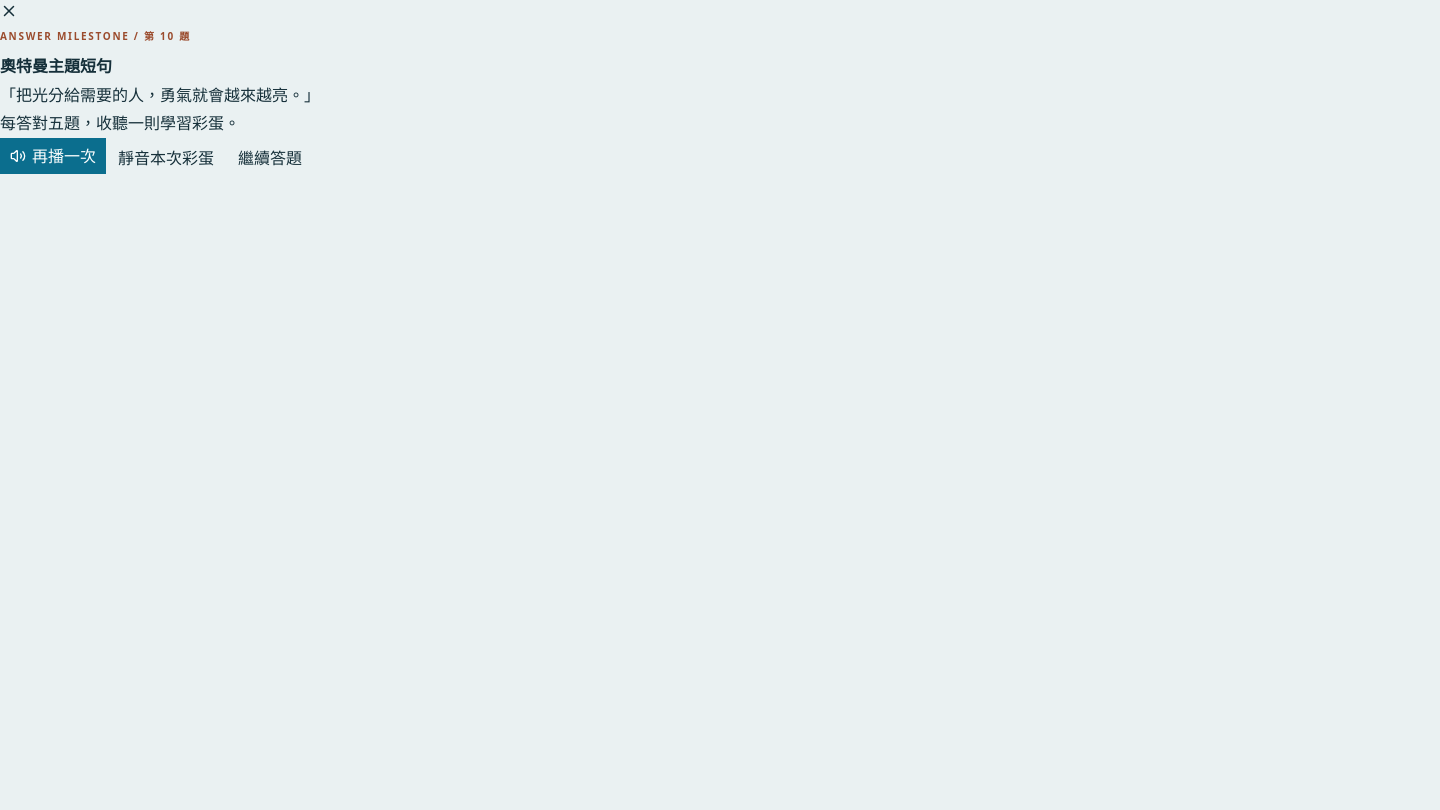
Test: AnswerBroadcast › supports muting the current broadcast and stopping speech on unmount
Click the button "靜音本次彩蛋": (166, 159) [106,141,226,177]
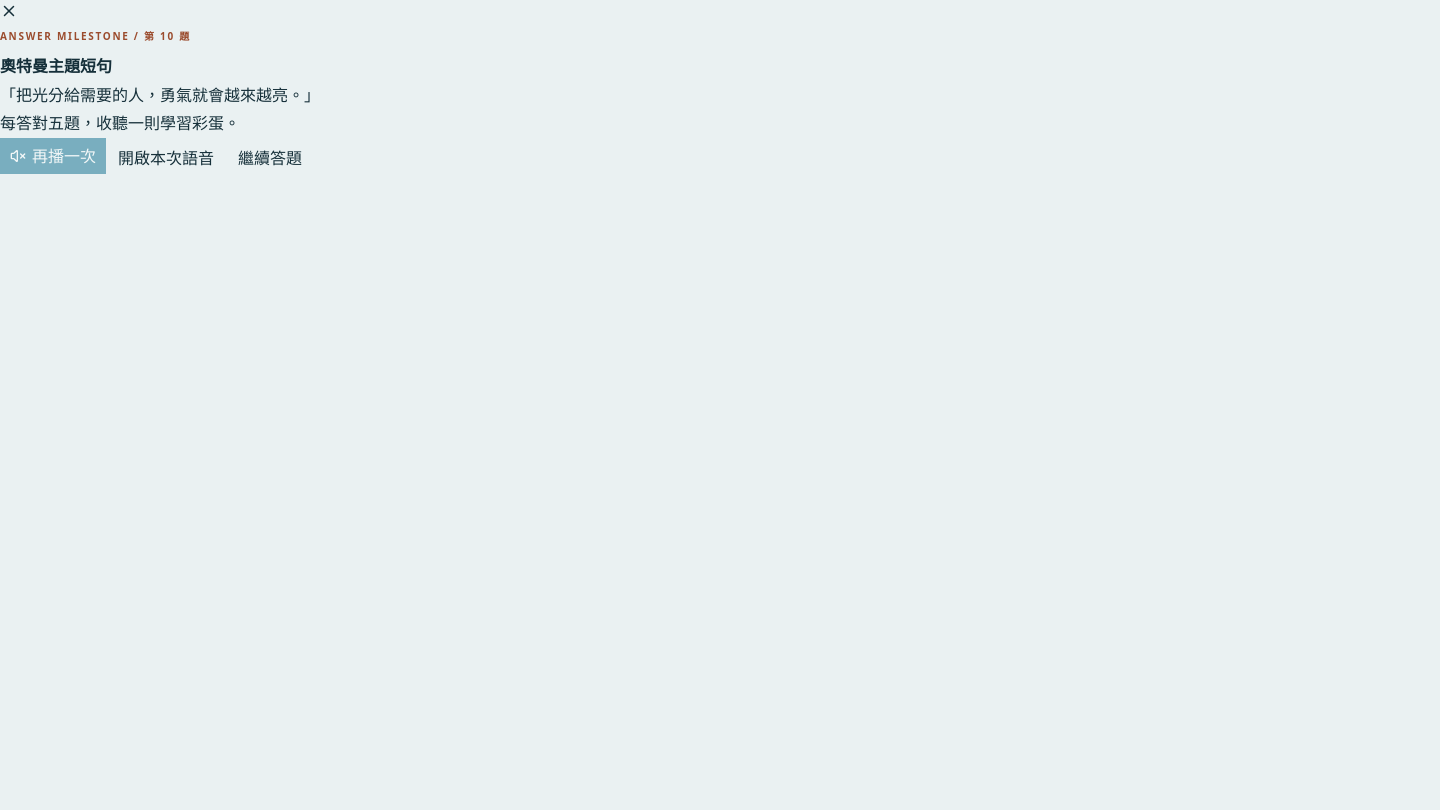
Result: the button "開啟本次語音" is shown at [106,141,226,177]
Result: the button "再播一次" is disabled at [0,138,106,174]
